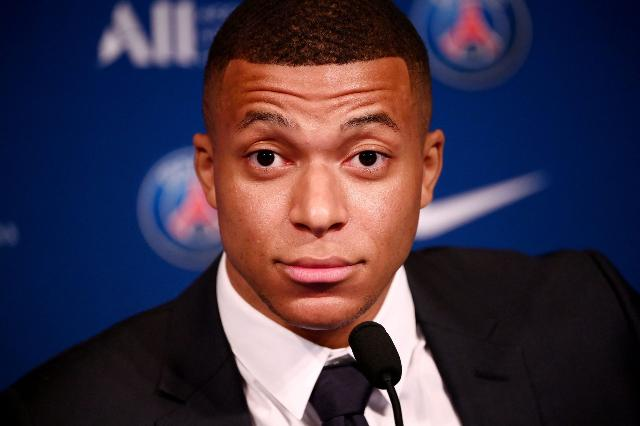forehead: (240, 88, 304, 112), (330, 84, 390, 108)
